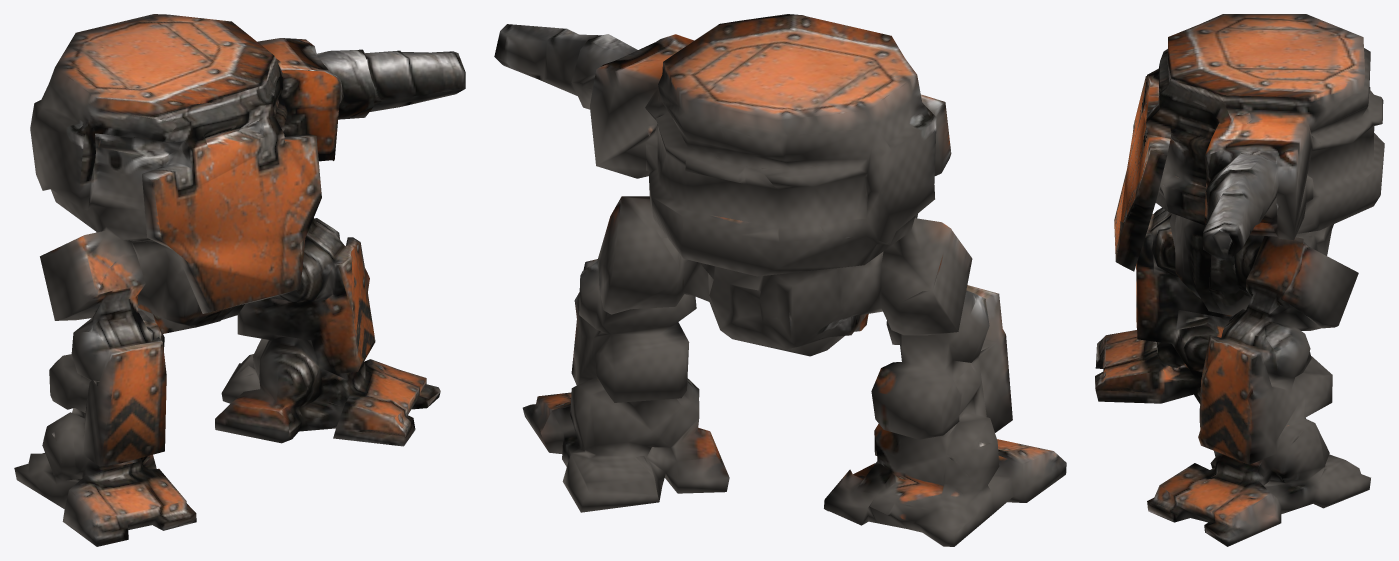
The model's file is tamper_lod2.glb.
The picture shows the model from 3 angles, left to right: view 1: azimuth 30°, elevation 25°; view 2: azimuth 150°, elevation 25°; view 3: azimuth 270°, elevation 25°; orthographic projection. The views are drawn at different scales.
Visible parts, largest first — view 1: geometry_0; view 2: geometry_0; view 3: geometry_0.
Part boxes in pixels (x1,y1,x2,y2): geometry_0: [14, 14, 465, 546]; geometry_0: [494, 14, 1066, 546]; geometry_0: [1095, 14, 1384, 546].
Bounding box in the file's own units: 1.98 × 1.71 × 1.2.
1 material, 1 textured.
